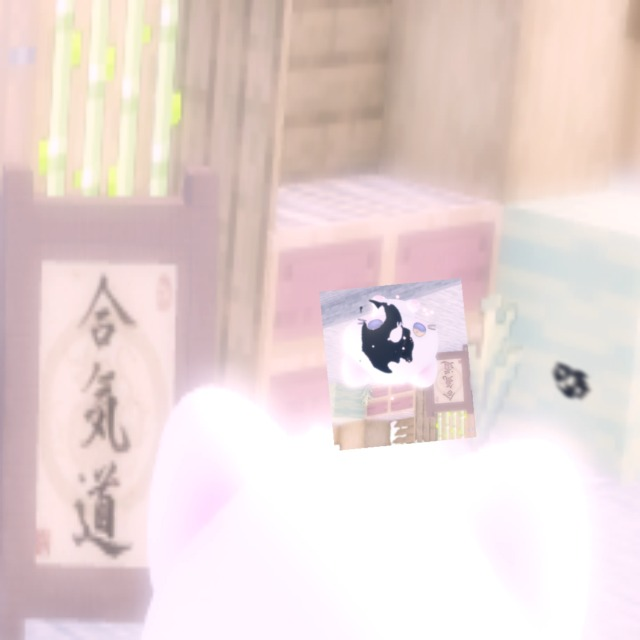urso_branco: (319, 278, 477, 451)
urso_preto: (344, 283, 426, 390), (542, 353, 598, 407)
